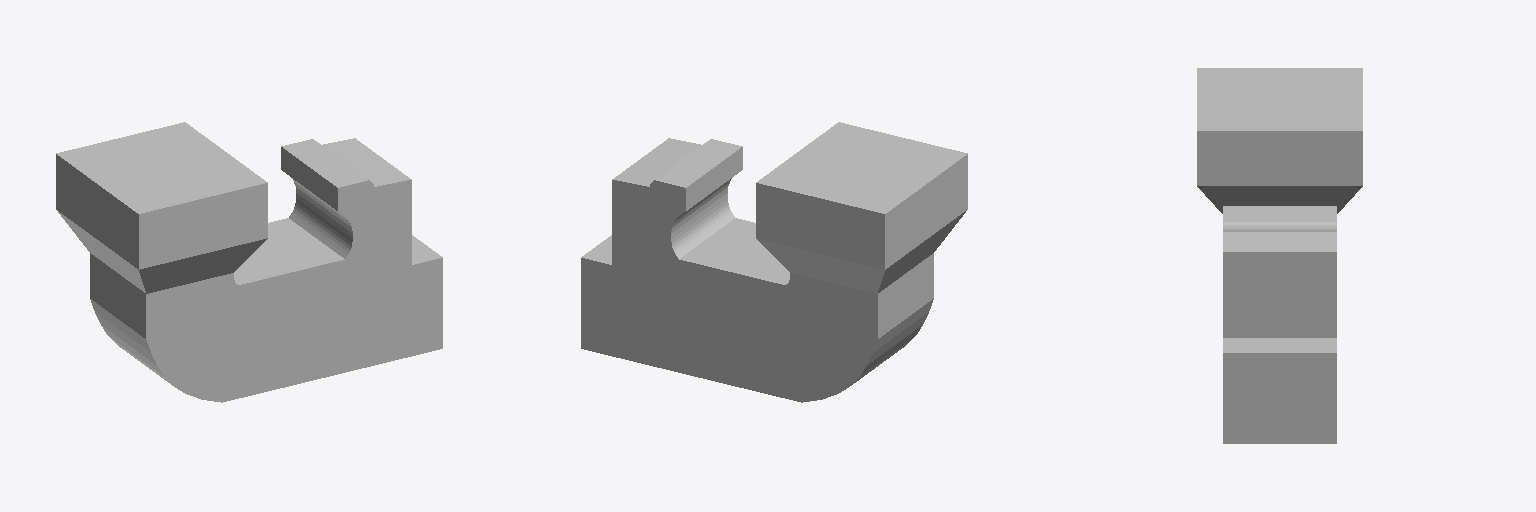
The model's file is Axial-Oval Arm.obj.
The picture shows the model from 3 angles: view 1: azimuth 30°, elevation 25°; view 2: azimuth 150°, elevation 25°; view 3: azimuth 270°, elevation 25°; orthographic projection.
Visible parts, largest first — view 1: polySurface8630 Flower_board:FlowerPl11; view 2: polySurface8630 Flower_board:FlowerPl11; view 3: polySurface8630 Flower_board:FlowerPl11.
Part boxes in pixels (x1,y1,x2,y2): polySurface8630 Flower_board:FlowerPl11: (56, 122, 442, 402); polySurface8630 Flower_board:FlowerPl11: (581, 122, 967, 402); polySurface8630 Flower_board:FlowerPl11: (1197, 68, 1362, 443).
Bounding box in the file's own units: 0.2551 × 0.1701 × 0.1153.